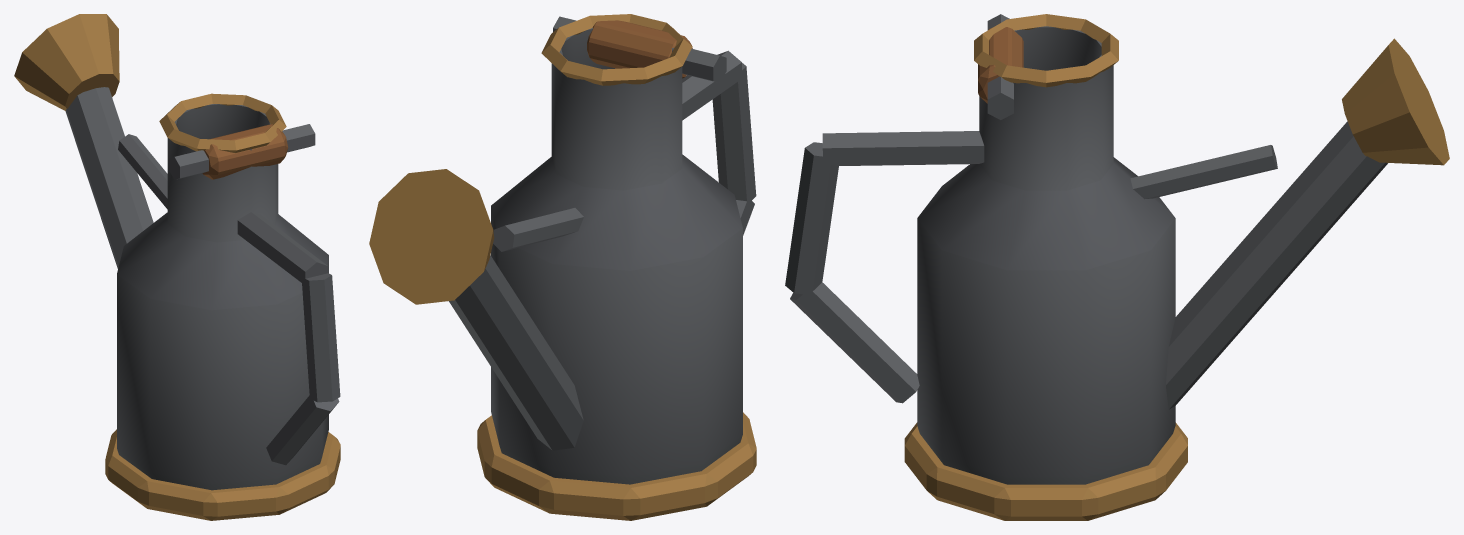
Rendered from prop_watering_can_rustic_a.glb.
The picture shows the model from 3 angles, left to right: view 1: azimuth 30°, elevation 25°; view 2: azimuth 150°, elevation 25°; view 3: azimuth 270°, elevation 25°; orthographic projection. The views are drawn at different scales.
Parts seen in each view (by area): view 1: can_body, can_base_rim, can_carry_grip; view 2: can_body, can_base_rim, can_carry_grip; view 3: can_body, can_base_rim, can_carry_grip.
Part boxes in pixels (x1,y1,x2,y2): can_body: (65,87,340,490); can_base_rim: (14,14,340,520); can_carry_grip: (202,124,288,179); can_body: (449,16,756,484); can_base_rim: (369,14,756,520); can_carry_grip: (587,20,692,78); can_body: (785,14,1387,484); can_base_rim: (904,14,1449,520); can_carry_grip: (978,27,1023,103).
Bounding box in the file's own units: 0.1807 × 0.308 × 0.4373.
